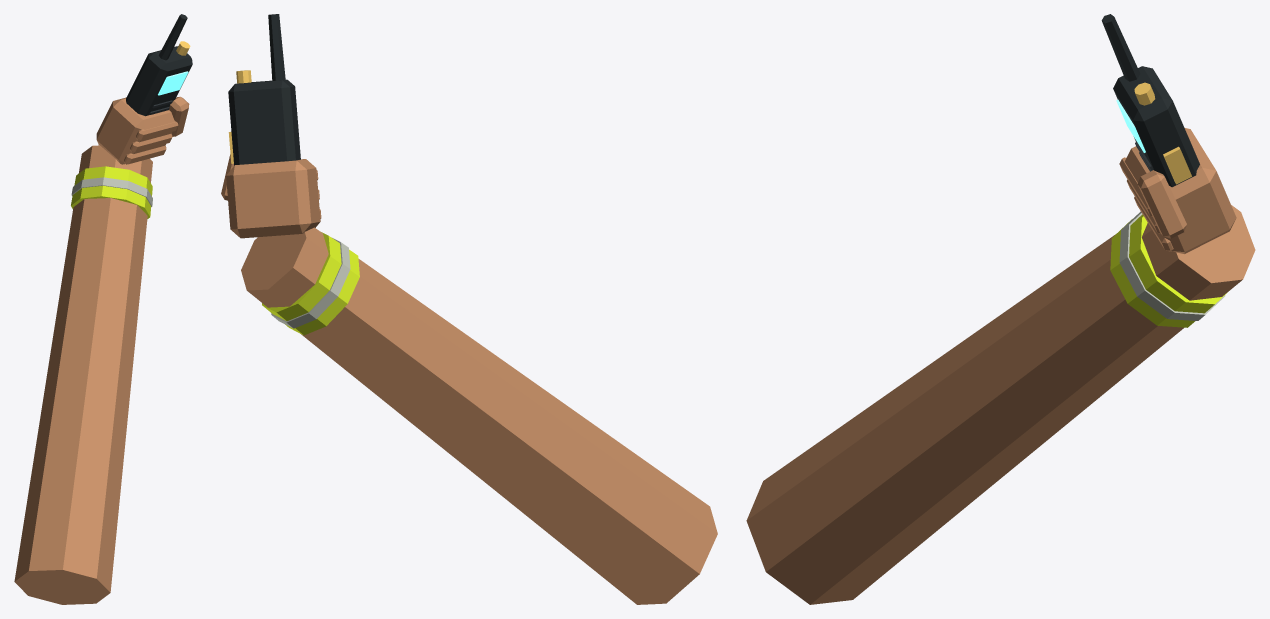
Rendered from lwf_fp_arm_left_radio_v1.glb.
3 renders of one model, left to right at view 1: azimuth 30°, elevation 25°; view 2: azimuth 150°, elevation 25°; view 3: azimuth 270°, elevation 25°, orthographic. The views are drawn at different scales.
Visible parts, largest first — view 1: LWF_FPArm_Left, LWF_FPRadio, LWF_FPRadio_Screen; view 2: LWF_FPArm_Left, LWF_FPRadio; view 3: LWF_FPArm_Left, LWF_FPRadio.
Part boxes in pixels (bbox=[...]): LWF_FPArm_Left: bbox=[14, 96, 189, 604]; LWF_FPRadio: bbox=[126, 14, 192, 116]; LWF_FPRadio_Screen: bbox=[158, 71, 188, 95]; LWF_FPArm_Left: bbox=[221, 154, 717, 604]; LWF_FPRadio: bbox=[228, 14, 300, 165]; LWF_FPArm_Left: bbox=[746, 128, 1255, 604]; LWF_FPRadio: bbox=[1101, 14, 1199, 187].
Size of the model in its own units: 0.3259 by 0.5457 by 0.3415.
